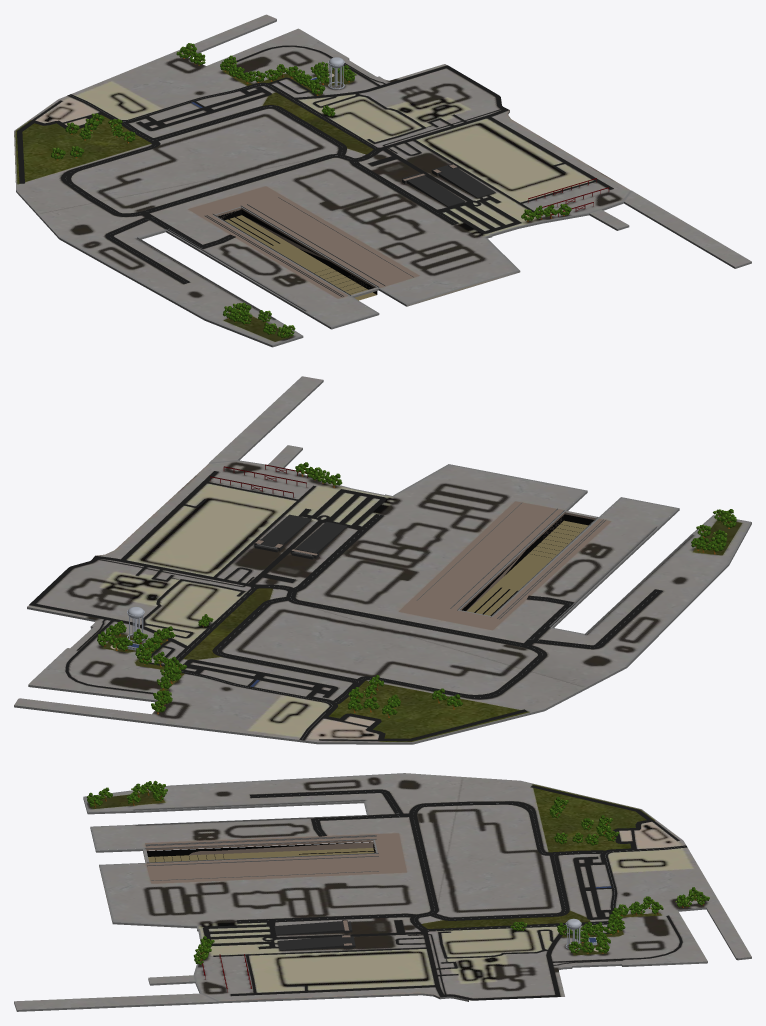
File: Philly_Area-1.glb
The picture shows the model from 3 angles, top to bottom: view 1: azimuth 30°, elevation 25°; view 2: azimuth 150°, elevation 25°; view 3: azimuth 270°, elevation 25°; orthographic projection. The views are drawn at different scales.
Visible parts, largest first — view 1: Philly_Area 1; view 2: Philly_Area 1; view 3: Philly_Area 1.
Boxes of the visible parts, x1,y1,x2,y2 form: Philly_Area 1: (14,14,751,347); Philly_Area 1: (14,376,751,744); Philly_Area 1: (14,773,751,1011).
Bounding box in the file's own units: 823 × 55.37 × 1084.
Materials: 22 (10 with a texture image).
